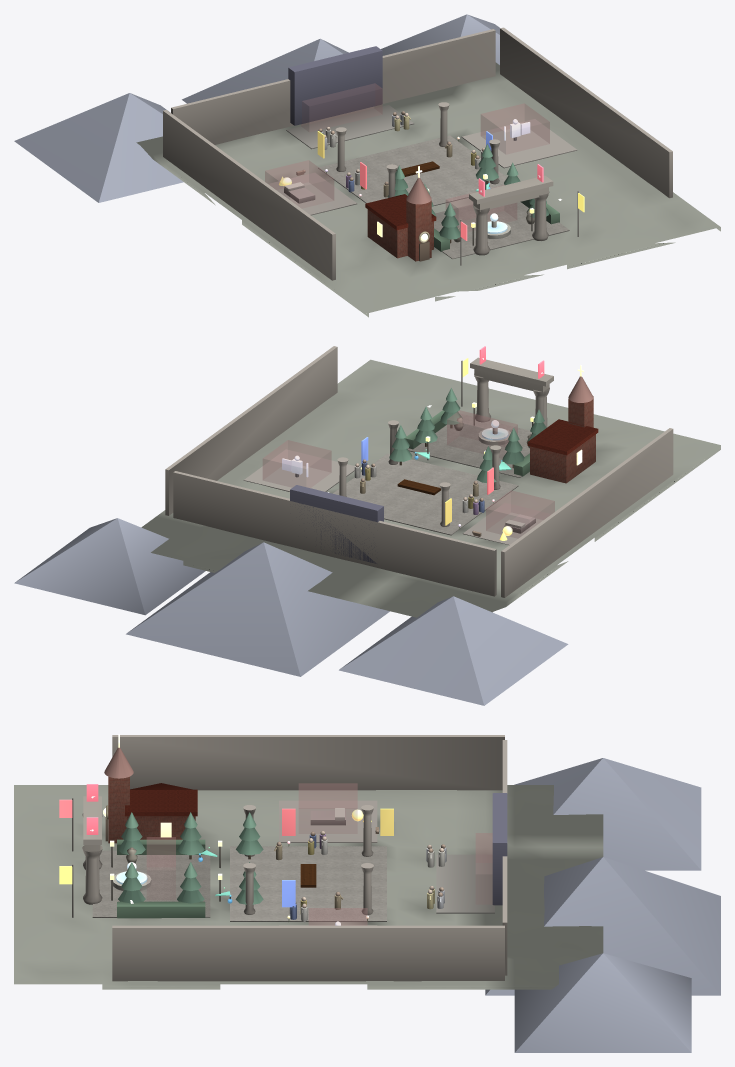
File: palace_beautiful.glb
The picture shows the model from 3 angles, top to bottom: view 1: azimuth 30°, elevation 25°; view 2: azimuth 150°, elevation 25°; view 3: azimuth 270°, elevation 25°; orthographic projection. The views are drawn at different scales.
Visible parts, largest first — view 1: ENV_Palace_Ground, VIS_PROP_Ridge_Distant (×3), ENV_Palace_WallBack, ENV_Palace_WallL, ENV_Palace_WallR, PROP_ValleyView, ENV_Palace_MainHall, VIS_PROP_Chapel (×3), VIS_PROP_PalaceGate (×4), ENV_Palace_GateCourt, TRIGGER_Exit_ValleyHumiliation, ENV_Palace_ArmorRoom (+5 smaller); view 2: VIS_PROP_Ridge_Distant (×3), ENV_Palace_Ground, ENV_Palace_WallBack, ENV_Palace_WallL, ENV_Palace_WallR, ENV_Palace_MainHall, VIS_PROP_Chapel (×3), ENV_Palace_GateCourt, TRIGGER_ReceiveArmor, ENV_Palace_ArmorRoom, PROP_ValleyView, TRIGGER_RestAtPalace (+3 smaller); view 3: ENV_Palace_Ground, VIS_PROP_Ridge_Distant (×3), ENV_Palace_WallR, ENV_Palace_WallL, ENV_Palace_MainHall, VIS_PROP_Chapel (×4), ENV_Palace_GateCourt, ENV_Palace_Balcony, TRIGGER_RestAtPalace, ENV_Palace_RestRoom, TRIGGER_PalaceDoorExamination, PROP_ValleyView (+6 smaller).
Part boxes in pixels (box(x1,y1,x2,y2)): ENV_Palace_Ground: box(136, 62, 720, 317); VIS_PROP_Ridge_Distant (×3): box(14, 14, 500, 202); ENV_Palace_WallBack: box(171, 29, 495, 144); ENV_Palace_WallL: box(163, 110, 335, 280); ENV_Palace_WallR: box(500, 27, 672, 198); PROP_ValleyView: box(288, 46, 382, 125); ENV_Palace_MainHall: box(318, 135, 507, 205); VIS_PROP_Chapel (×3): box(365, 194, 436, 261); VIS_PROP_PalaceGate (×4): box(469, 175, 553, 255); ENV_Palace_GateCourt: box(434, 202, 569, 259); TRIGGER_Exit_ValleyHumiliation: box(301, 83, 382, 131); ENV_Palace_ArmorRoom: box(461, 119, 577, 168); VIS_PROP_Ridge_Distant (×3): box(14, 518, 568, 705); ENV_Palace_Ground: box(141, 359, 720, 617); ENV_Palace_WallBack: box(173, 471, 496, 596); ENV_Palace_WallL: box(501, 428, 673, 597); ENV_Palace_WallR: box(165, 346, 337, 515); ENV_Palace_MainHall: box(333, 453, 518, 535); VIS_PROP_Chapel (×3): box(527, 396, 598, 483); ENV_Palace_GateCourt: box(407, 413, 531, 477); TRIGGER_ReceiveArmor: box(263, 440, 331, 487); ENV_Palace_ArmorRoom: box(243, 449, 354, 491); PROP_ValleyView: box(290, 485, 383, 563); TRIGGER_RestAtPalace: box(486, 490, 554, 537); ENV_Palace_Ground: box(14, 785, 603, 989); VIS_PROP_Ridge_Distant (×3): box(485, 758, 720, 1052); ENV_Palace_WallR: box(112, 925, 504, 981); ENV_Palace_WallL: box(112, 735, 504, 790); ENV_Palace_MainHall: box(230, 846, 386, 921); VIS_PROP_Chapel (×4): box(104, 747, 197, 843); ENV_Palace_GateCourt: box(92, 850, 210, 917); ENV_Palace_Balcony: box(436, 854, 494, 913); TRIGGER_RestAtPalace: box(299, 783, 357, 833); ENV_Palace_RestRoom: box(279, 800, 377, 842); TRIGGER_PalaceDoorExamination: box(147, 837, 175, 899); PROP_ValleyView: box(492, 793, 507, 905).
Size of the model in its own units: 65 by 16.75 by 72.
Materials: 78 (5 with a texture image).
